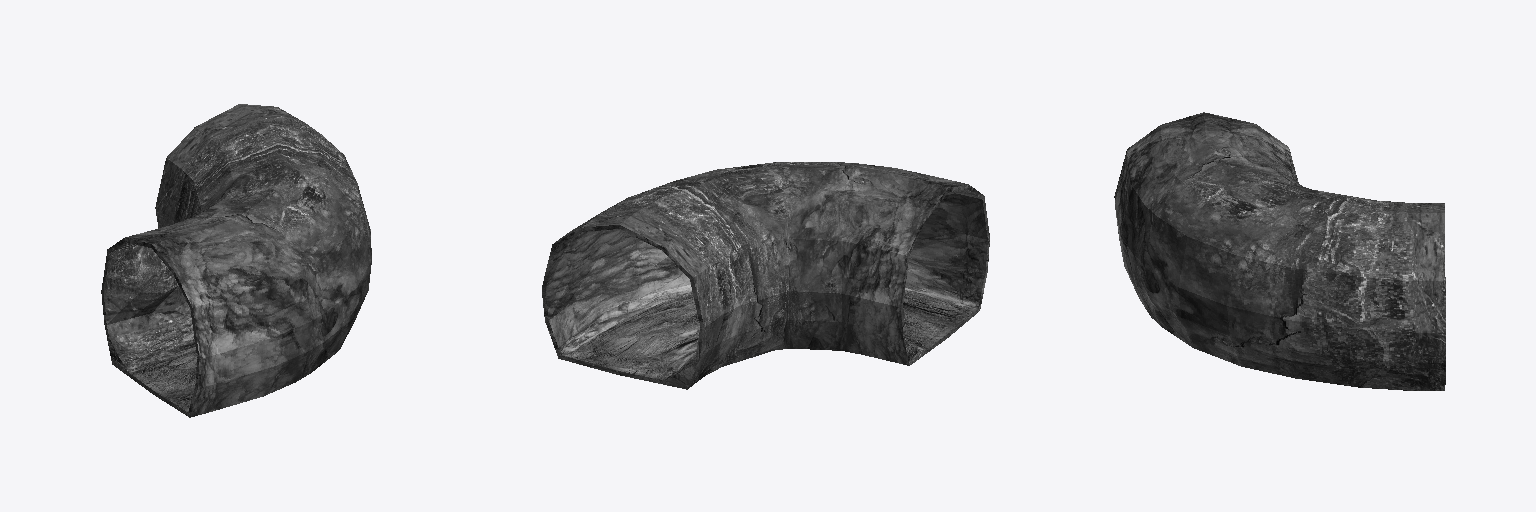
3 views of the same model, side by side, from view 1: azimuth 30°, elevation 25°; view 2: azimuth 150°, elevation 25°; view 3: azimuth 270°, elevation 25° (orthographic).
Visible parts, largest first — view 1: cavecorridor5; view 2: cavecorridor5; view 3: cavecorridor5.
Boxes of the visible parts, x1=… form: cavecorridor5: x1=101, y1=104, x2=371, y2=417; cavecorridor5: x1=542, y1=162, x2=989, y2=389; cavecorridor5: x1=1114, y1=112, x2=1445, y2=390.
Size of the model in its own units: 181 by 91.84 by 180.
Materials: 1 (1 with a texture image).